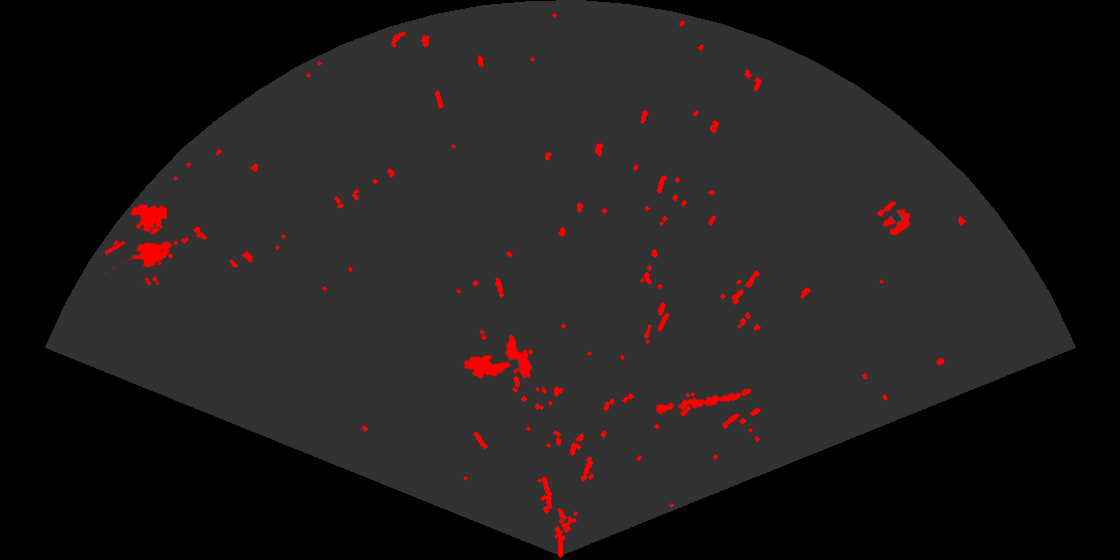AUV: (504, 333, 534, 381), (462, 353, 512, 380)
ball: (876, 200, 912, 237)
cage: (105, 203, 180, 285)
chain: (653, 387, 753, 416)
